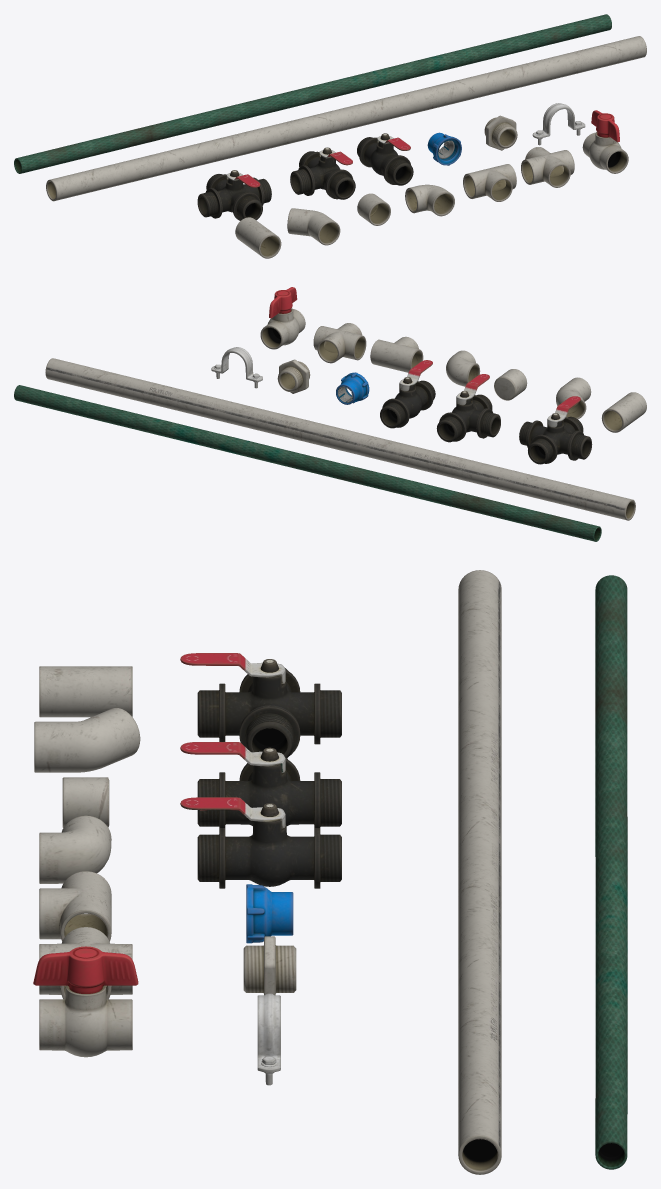
3 renders of one model, top to bottom at view 1: azimuth 30°, elevation 25°; view 2: azimuth 150°, elevation 25°; view 3: azimuth 270°, elevation 25°, orthographic. The views are drawn at different scales.
Visible parts, largest first — view 1: straight_pvc_pipe_01, garden_pipe, garden_pipe_connector_01, garden_pipe_connector_02, garden_pipe_connector_03, pvc_ball_valve, pvc_connector_01, pvc_connector_02, pvc_connector_05, pvc_connector_03, pvc_connector_06, pvc_connector_07 (+3 smaller); view 2: straight_pvc_pipe_01, garden_pipe, garden_pipe_connector_01, garden_pipe_connector_02, garden_pipe_connector_03, pvc_ball_valve, pvc_connector_01, pvc_connector_02, pvc_connector_06, pvc_connector_03, pvc_connector_07, pvc_connector_05 (+3 smaller); view 3: straight_pvc_pipe_01, garden_pipe, garden_pipe_connector_01, pvc_ball_valve, garden_pipe_connector_03, garden_pipe_connector_02, pvc_connector_05, pvc_connector_06, pvc_connector_02, pvc_connector_03, pvc_connector_07, garden_pipe_connector (+3 smaller).
Boxes of the visible parts, box(x1,y1,x2,y2) form: straight_pvc_pipe_01: box(46, 36, 646, 201); garden_pipe: box(14, 14, 611, 173); garden_pipe_connector_01: box(197, 170, 271, 220); garden_pipe_connector_02: box(290, 147, 355, 199); garden_pipe_connector_03: box(357, 133, 413, 185); pvc_ball_valve: box(582, 110, 628, 173); pvc_connector_01: box(521, 147, 574, 187); pvc_connector_02: box(463, 164, 516, 201); pvc_connector_05: box(287, 208, 340, 245); pvc_connector_03: box(405, 184, 454, 216); pvc_connector_06: box(235, 217, 281, 258); pvc_connector_07: box(484, 115, 517, 150); straight_pvc_pipe_01: box(45, 358, 635, 520); garden_pipe: box(14, 385, 601, 541); garden_pipe_connector_01: box(519, 396, 592, 464); garden_pipe_connector_02: box(436, 374, 500, 442); garden_pipe_connector_03: box(380, 360, 435, 428); pvc_ball_valve: box(260, 287, 305, 349); pvc_connector_01: box(313, 323, 366, 363); pvc_connector_02: box(370, 336, 423, 372); pvc_connector_06: box(601, 392, 646, 432); pvc_connector_03: box(446, 350, 480, 386); pvc_connector_07: box(277, 359, 310, 393); pvc_connector_05: box(556, 377, 591, 419); straight_pvc_pipe_01: box(458, 570, 501, 1174); garden_pipe: box(595, 575, 627, 1169); garden_pipe_connector_01: box(180, 653, 341, 757); pvc_ball_valve: box(33, 946, 138, 1057); garden_pipe_connector_03: box(180, 797, 341, 888); garden_pipe_connector_02: box(180, 742, 341, 827); pvc_connector_05: box(34, 708, 140, 772); pvc_connector_06: box(39, 666, 132, 717); pvc_connector_02: box(39, 871, 111, 941); pvc_connector_03: box(39, 815, 111, 883); pvc_connector_07: box(243, 936, 296, 995); garden_pipe_connector: box(246, 884, 293, 943).
Bounding box in the file's own units: 0.8157 × 0.0757 × 0.3618.
Materials: 1 (1 with a texture image).
